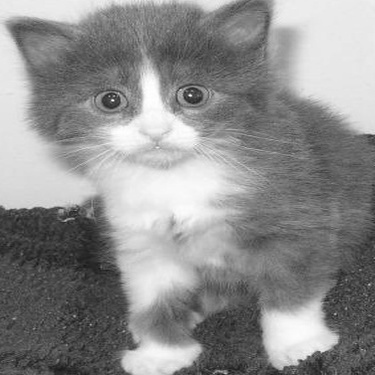cat: (1, 17, 370, 371)
